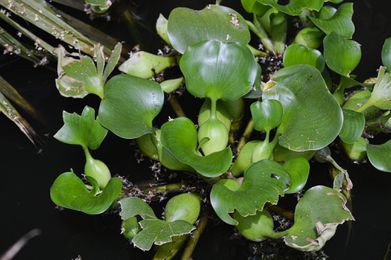water_hyacinth: (49, 1, 391, 260)
